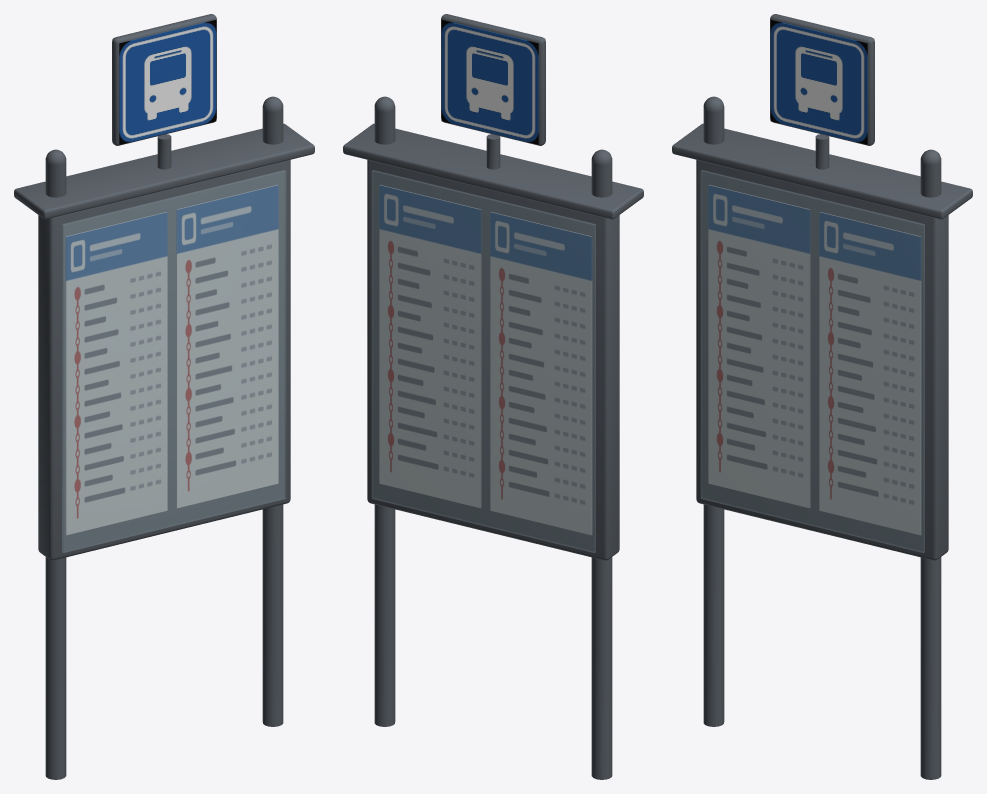
The model's file is timetable-display-case.glb.
3 renders of one model, left to right at view 1: azimuth 30°, elevation 25°; view 2: azimuth 150°, elevation 25°; view 3: azimuth 330°, elevation 25°, orthographic.
Parts seen in each view (by area): view 1: Timetable_Display_Case; view 2: Timetable_Display_Case; view 3: Timetable_Display_Case.
Part boxes in pixels (<box>): Timetable_Display_Case: <box>14,14,314,779</box>; Timetable_Display_Case: <box>343,14,643,779</box>; Timetable_Display_Case: <box>672,14,972,779</box>.
Bounding box in the file's own units: 0.9 × 2.29 × 0.18.
Materials: 4 (2 with a texture image).
